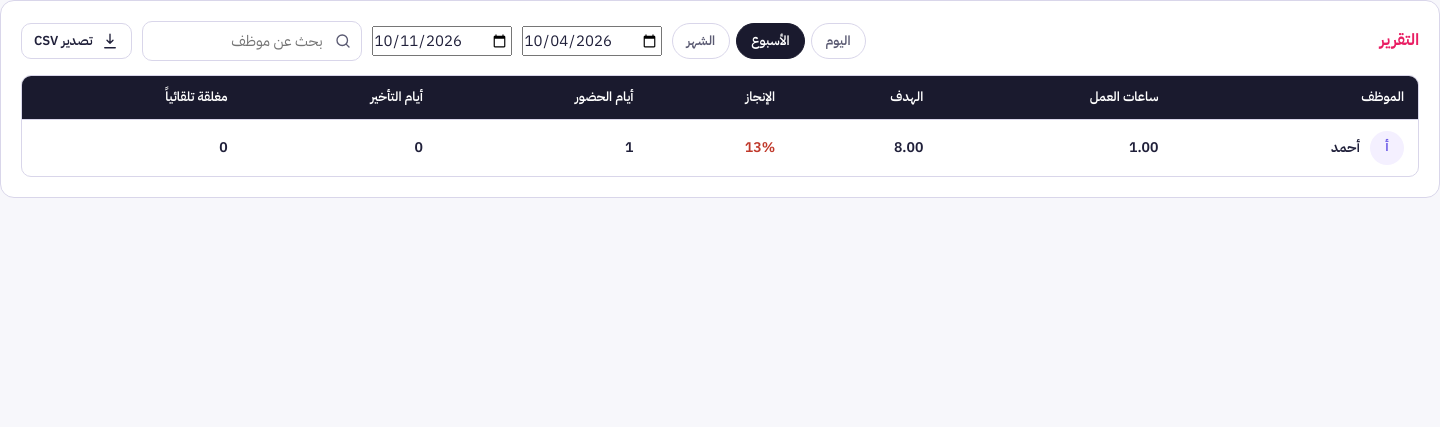
Scenario: ReportPanel › renders detail timestamps in the location timezone, not the browser one
The image size is (1440, 427).
Click the text "أحمد".
click(1346, 148)  # box [1331, 137, 1360, 159]
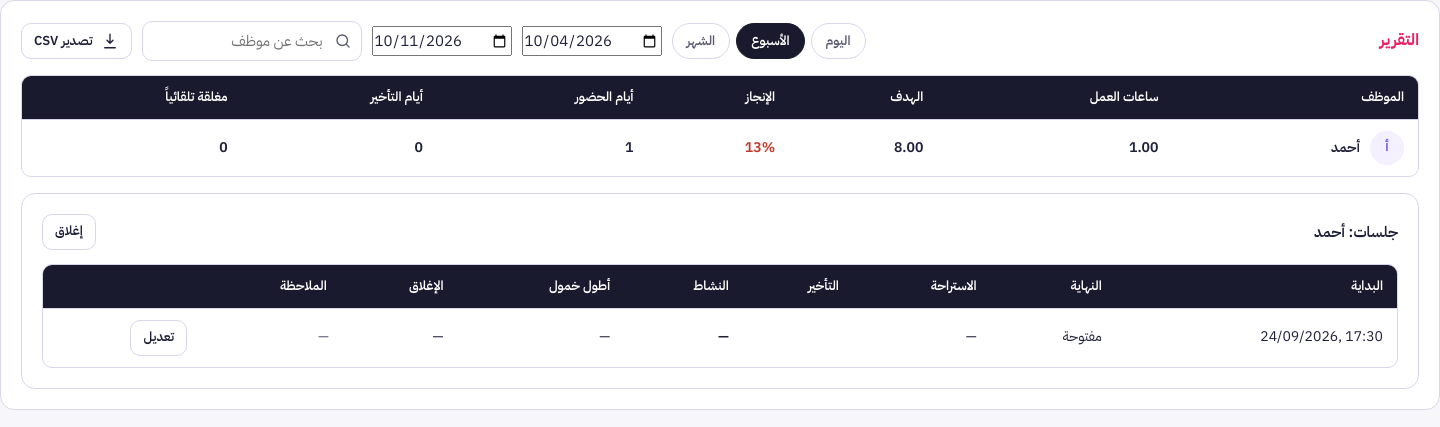
Expected: the text "24/09/2026, 17:30" is shown, [1116, 308, 1397, 367]
